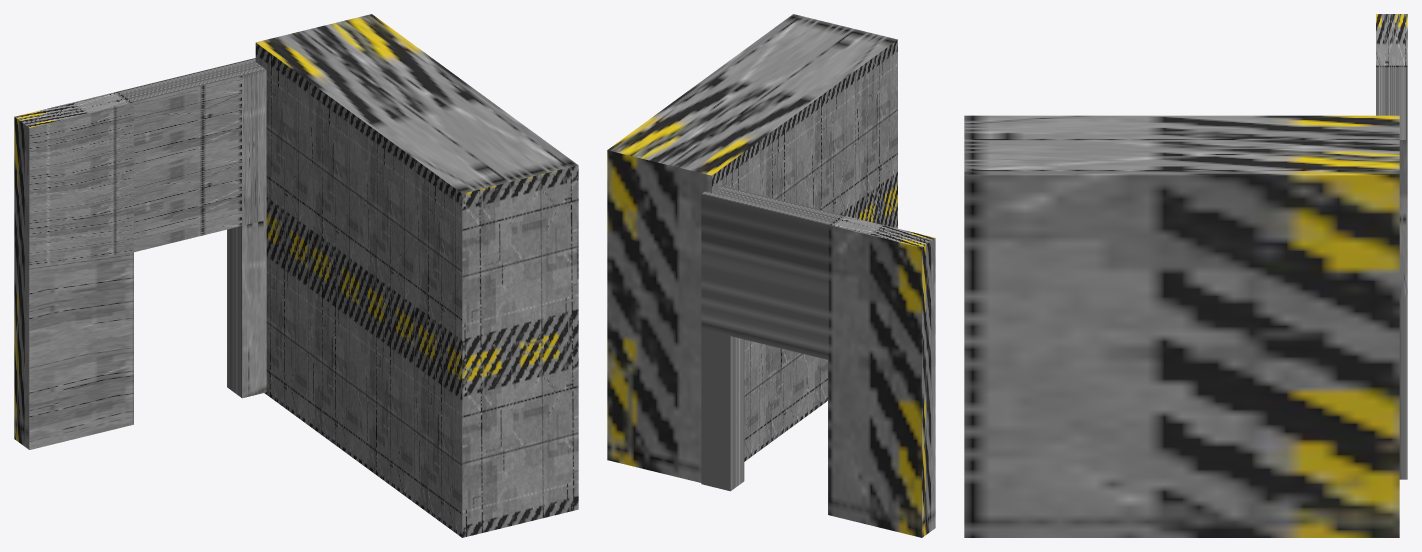
The model's file is ADDITIONAL_WALLSx 1.fbx.
3 renders of one model, left to right at view 1: azimuth 30°, elevation 25°; view 2: azimuth 150°, elevation 25°; view 3: azimuth 270°, elevation 25°, orthographic. The views are drawn at different scales.
Visible parts, largest first — view 1: Cube.002, Cube.007; view 2: Cube.002, Cube.007; view 3: Cube.002, Cube.007.
Part boxes in pixels (x1,y1,x2,y2): Cube.002: (255, 14, 578, 537); Cube.007: (14, 58, 266, 449); Cube.002: (607, 14, 897, 482); Cube.007: (701, 186, 935, 537); Cube.002: (964, 115, 1399, 537); Cube.007: (1376, 14, 1407, 479).
Size of the model in its own units: 1798 by 1673 by 1855.
